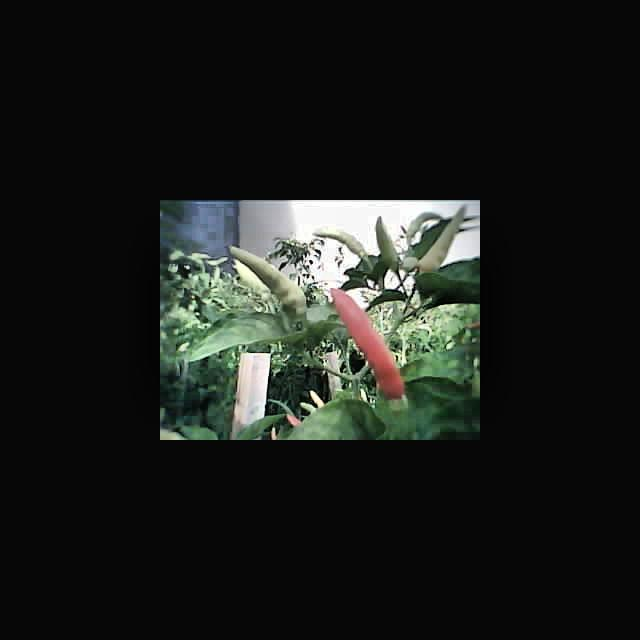Cabai: (329, 292, 412, 402)
